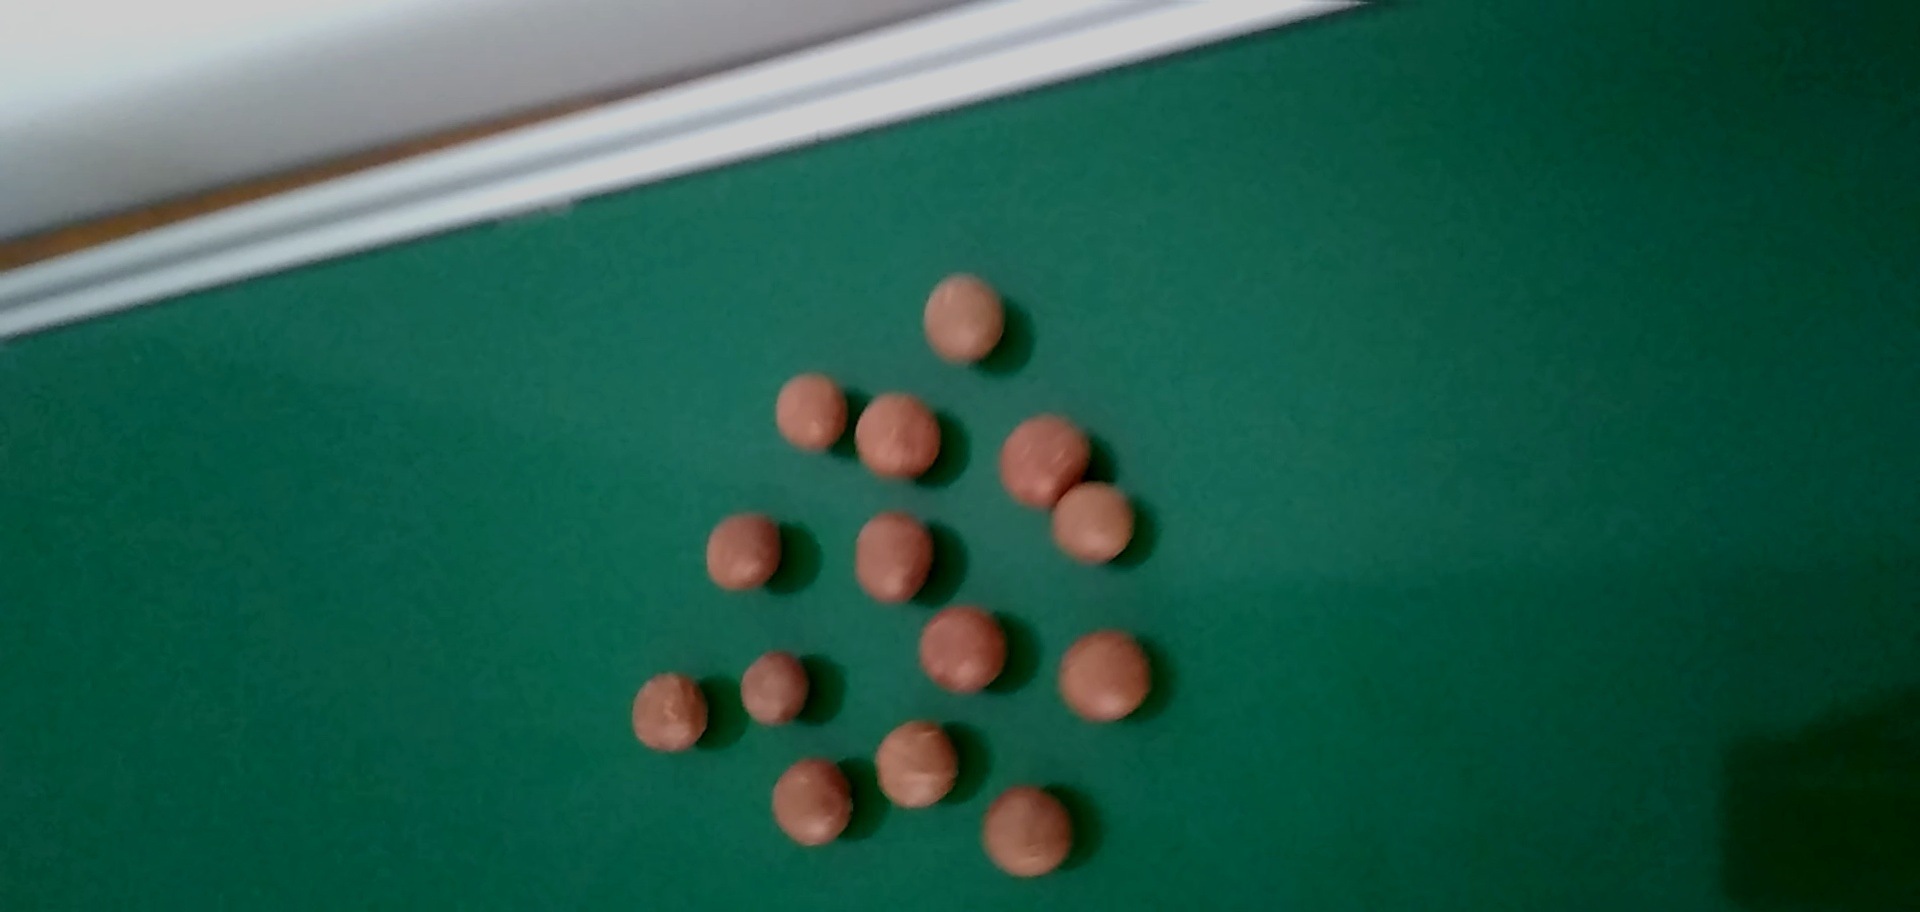mac: (1056, 628, 1150, 721), (1002, 410, 1090, 507), (767, 753, 851, 847), (921, 269, 1000, 366), (980, 788, 1064, 876), (873, 715, 953, 805), (920, 608, 1005, 688), (628, 666, 705, 753), (856, 386, 932, 474), (856, 514, 933, 600), (771, 372, 849, 454), (702, 513, 781, 590), (737, 648, 814, 727), (1052, 479, 1128, 558)
